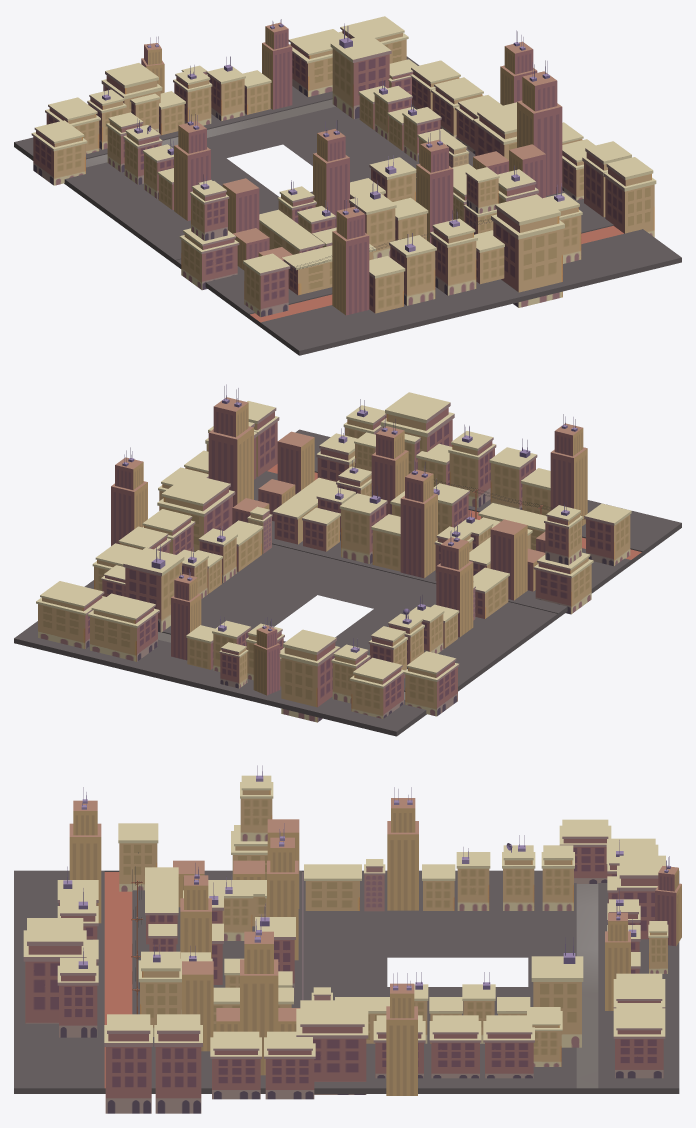
File: City_Decor.fbx
3 views of the same model, one above another, from view 1: azimuth 30°, elevation 25°; view 2: azimuth 150°, elevation 25°; view 3: azimuth 270°, elevation 25° (orthographic). The views are drawn at different scales.
Visible parts, largest first — view 1: City_Decor; view 2: City_Decor; view 3: City_Decor.
Boxes of the visible parts, x1=… form: City_Decor: x1=14, y1=16, x2=681, y2=355; City_Decor: x1=14, y1=384, x2=681, y2=736; City_Decor: x1=14, y1=765, x2=681, y2=1113.
Size of the model in its own units: 29977 by 10102 by 36346.
1 material, 1 textured.
